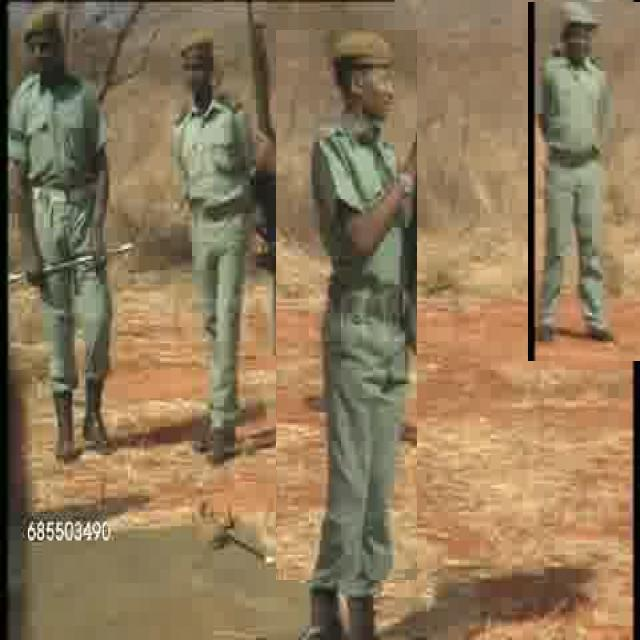poacher: (276, 30, 417, 580), (3, 5, 142, 473), (161, 12, 260, 456), (528, 2, 640, 361)
weapon: (246, 7, 296, 359)
